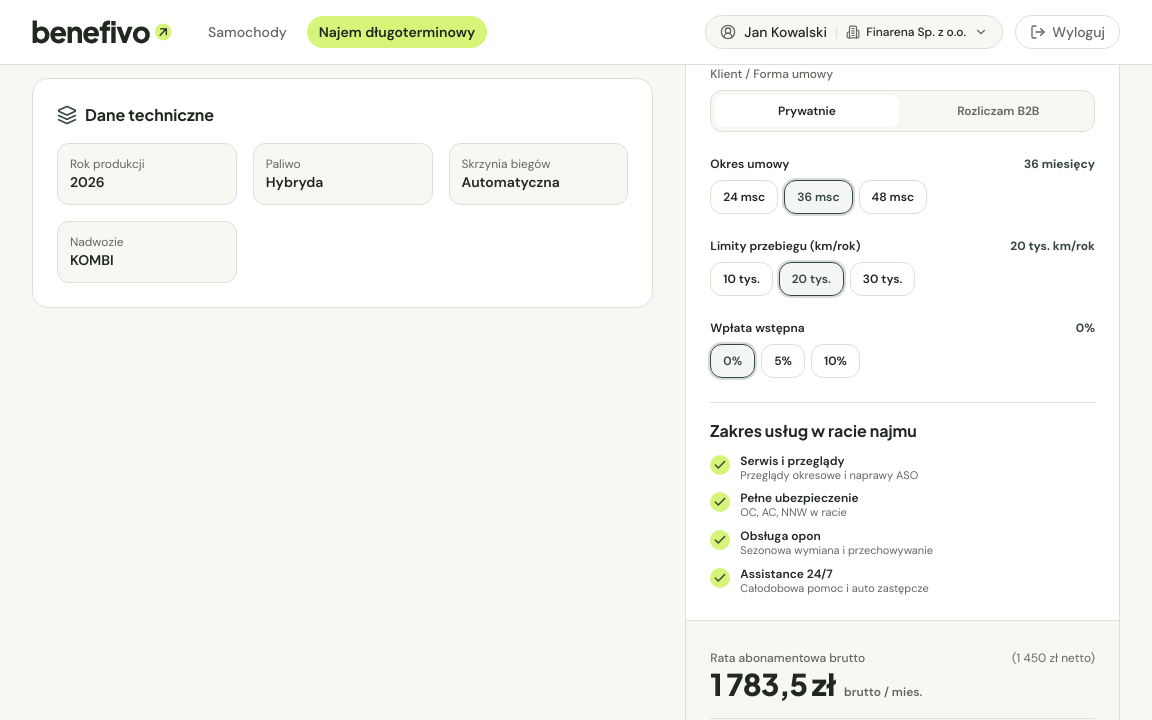
Test: RentalOfferDetailPage Component (Discrete Calculator & Inquiry) › updates monthly rate when user clicks on different contract parameters
(page scrolled)
# Click on 10% down payment
Click the button "10%" at x=836, y=360, box [811,344,860,378]
(page scrolled)
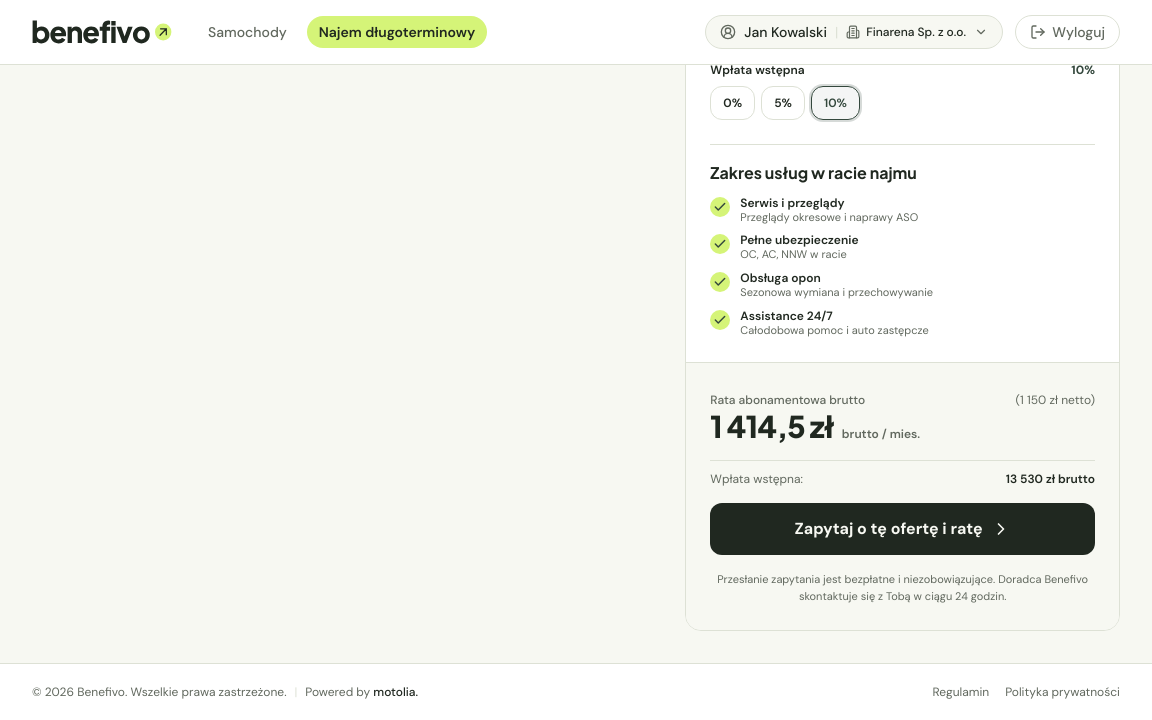
Now the text "13 530 zł brutto" is shown, box [1006,470,1095,486]
